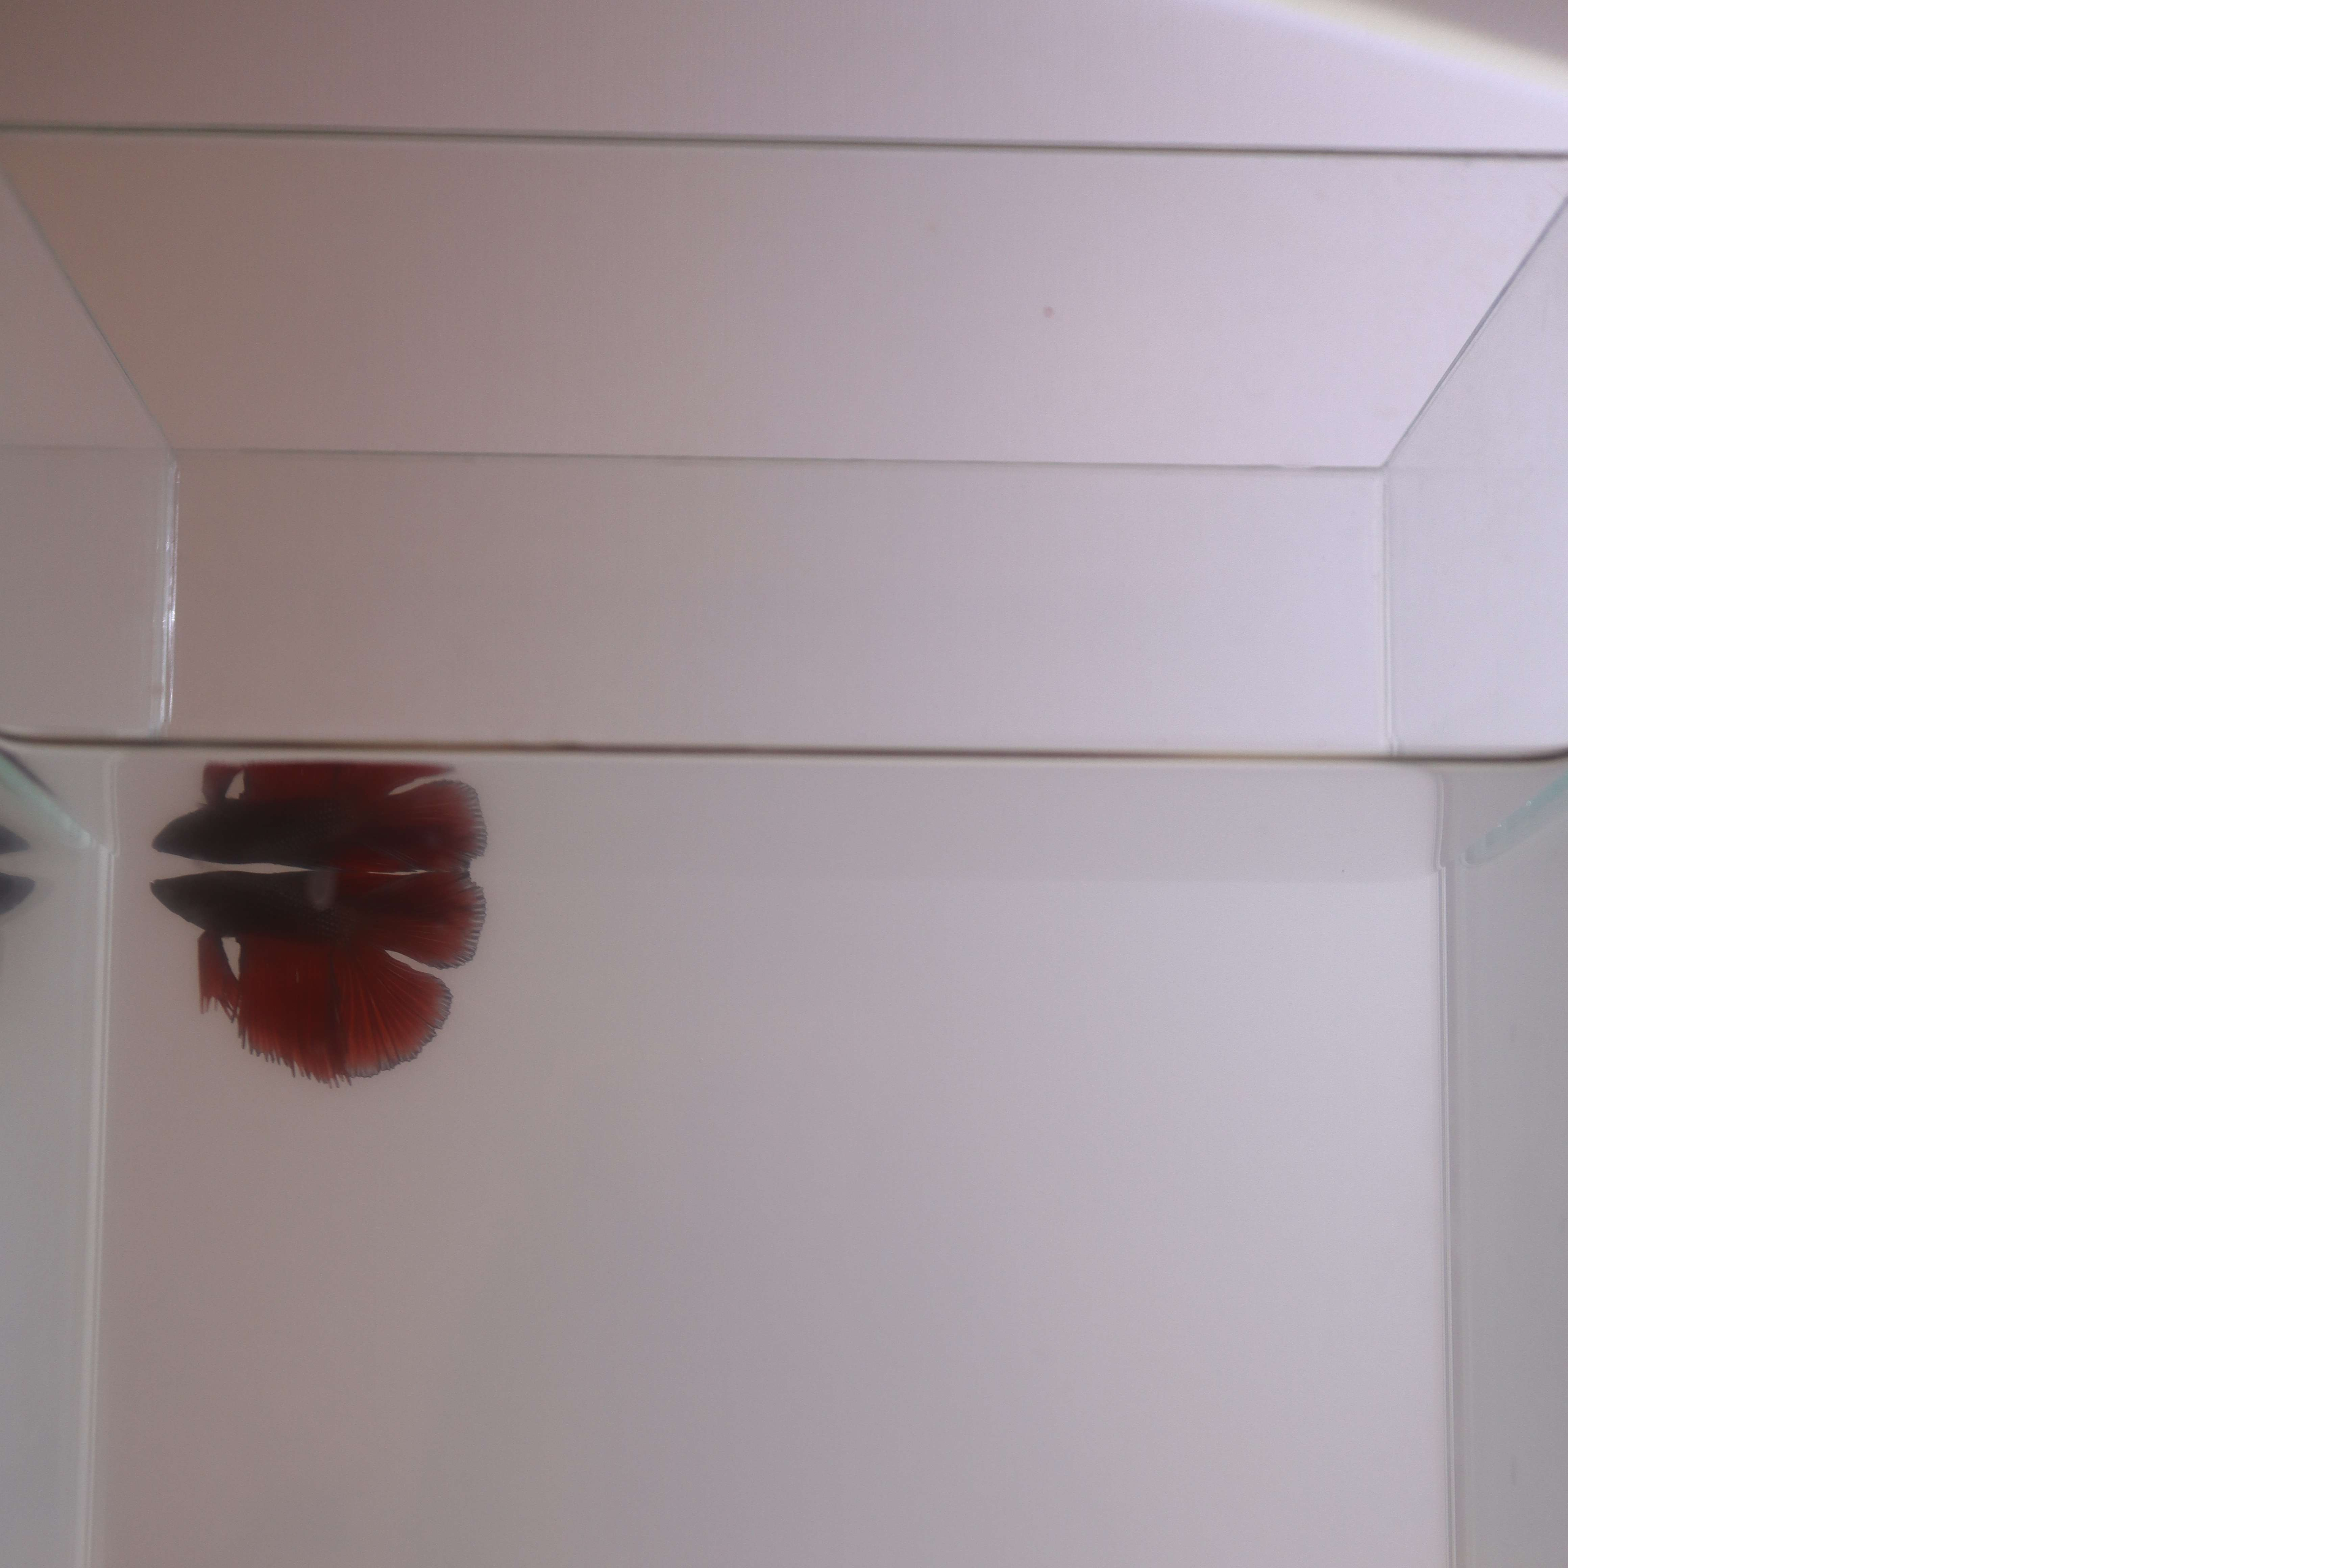fish: (136, 857, 488, 1087)
